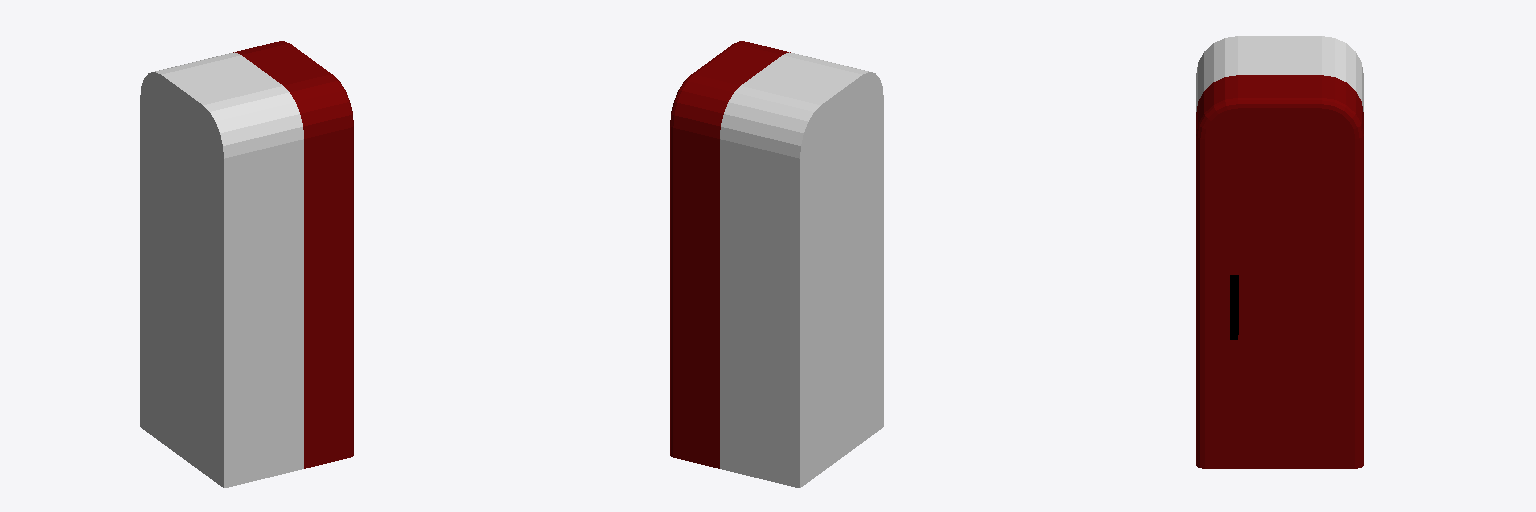
File: Fridge_Texture.obj
The picture shows the model from 3 angles: view 1: azimuth 30°, elevation 25°; view 2: azimuth 150°, elevation 25°; view 3: azimuth 270°, elevation 25°; orthographic projection.
Visible parts, largest first — view 1: Fridge pCube38, pCube39 Fridge; view 2: Fridge pCube38, pCube39 Fridge; view 3: pCube39 Fridge, Fridge pCube38, Fridge pCube40.
Part boxes in pixels (x1,y1,x2,y2): Fridge pCube38: (140,52,303,487); pCube39 Fridge: (233,41,353,468); Fridge pCube38: (720,52,883,487); pCube39 Fridge: (670,41,790,468); pCube39 Fridge: (1196,75,1363,468); Fridge pCube38: (1196,36,1363,111); Fridge pCube40: (1230,275,1238,339).
Bounding box in the file's own units: 2.12 × 5.06 × 2.09.